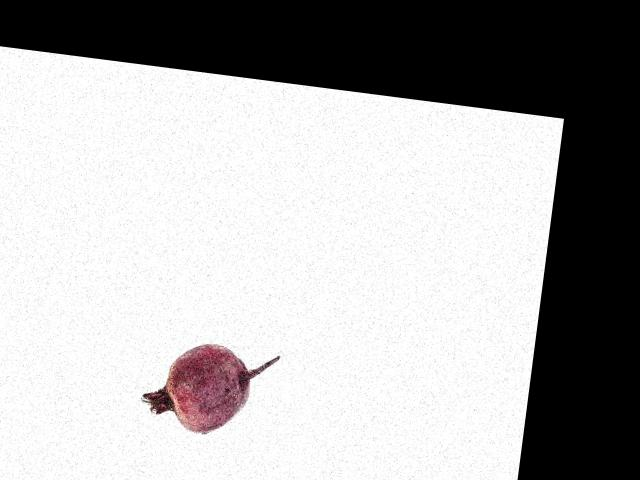beet: (139, 336, 278, 441)
